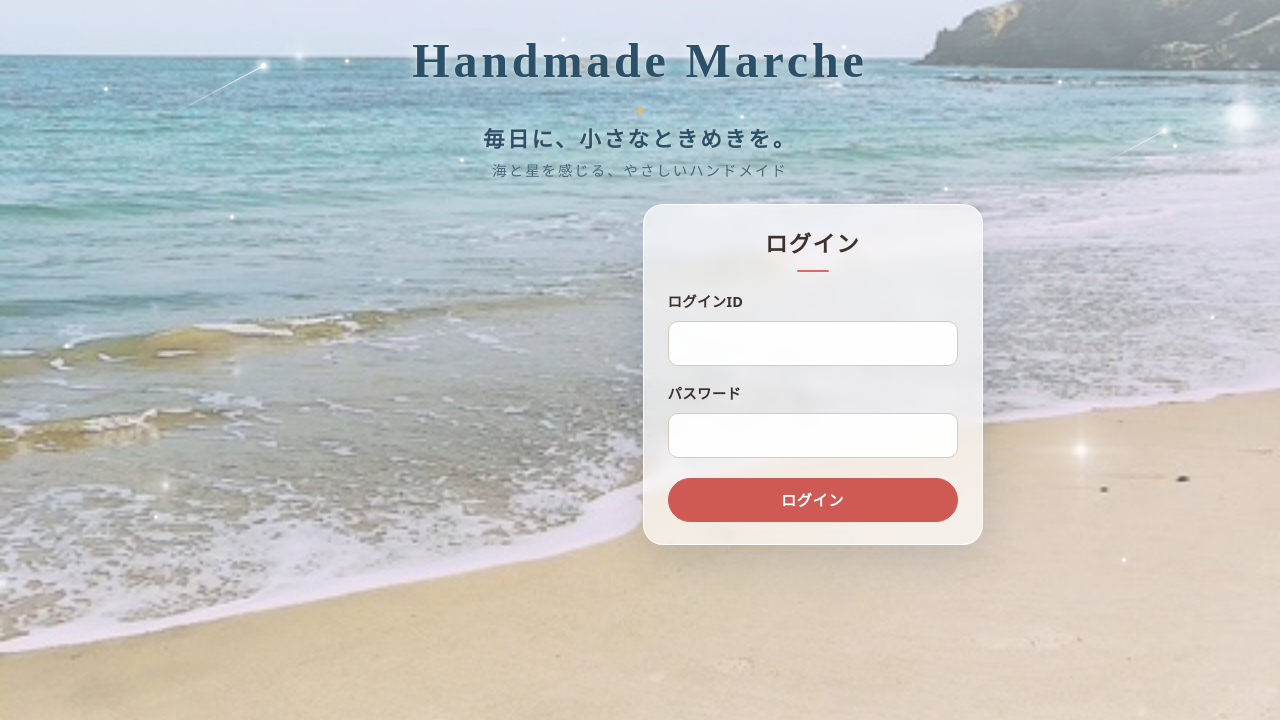
it: ログイン画面 › パスワードが違う場合はエラーを表示し、パスワード欄を空にしてログイン画面に留まる
The width and height of the screenshot is (1280, 720).
expect the heading "ログイン" is shown: met, box [765,232,860,257]
In the field labelled "ログインID": {"x": 813, "y": 344} [668,321,958,366], type "user1"
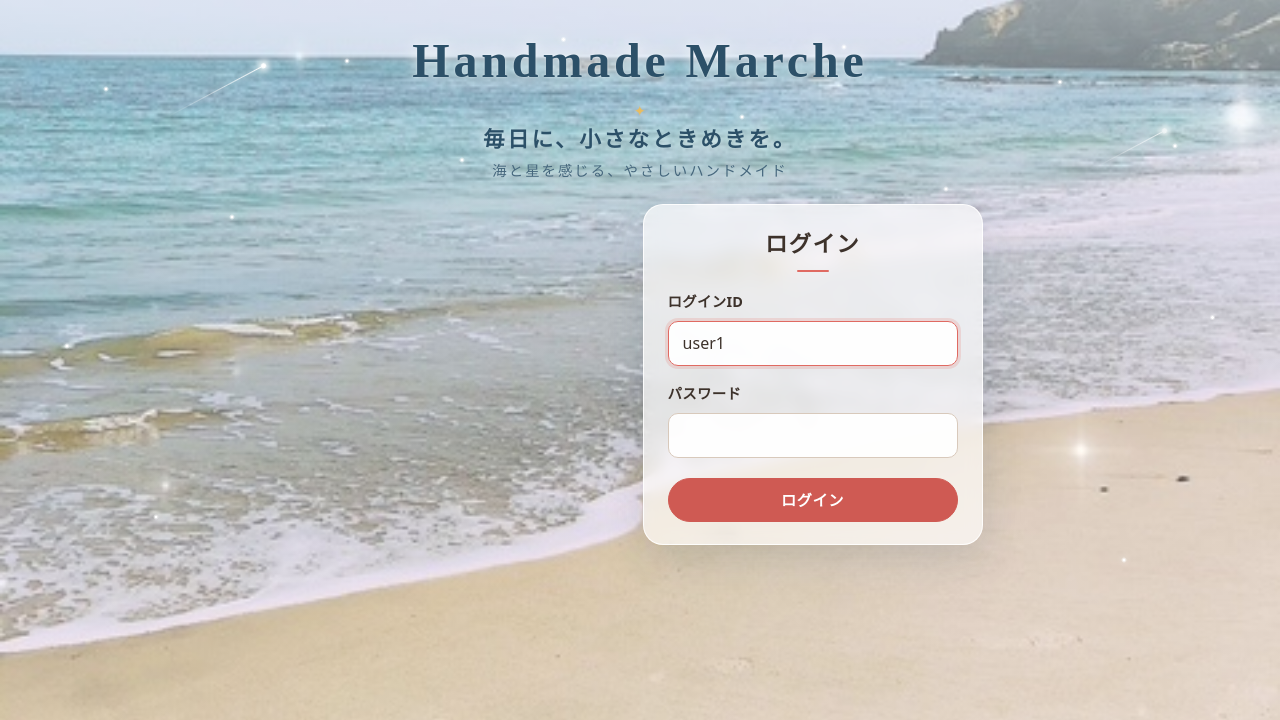
In the password field labelled "パスワード": {"x": 813, "y": 436} [668,413,958,458], type "wrong-password"
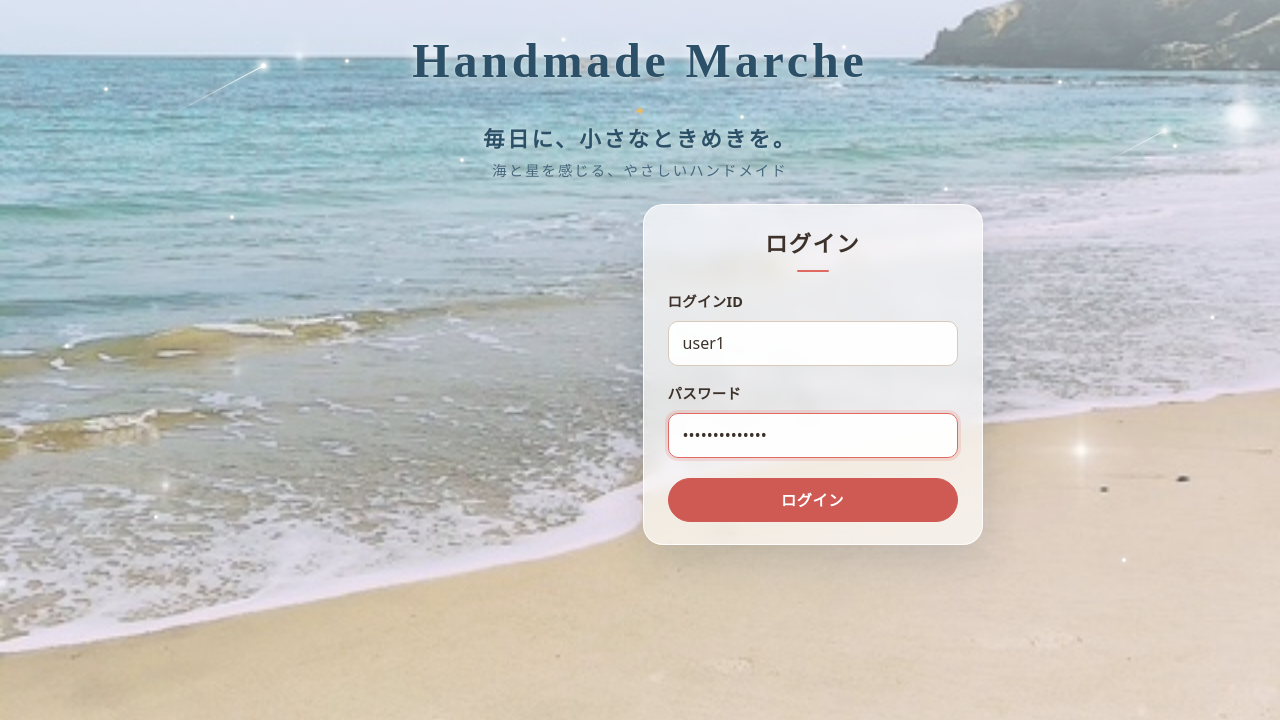
Click the button "ログイン": {"x": 813, "y": 500} [668,478,958,522]
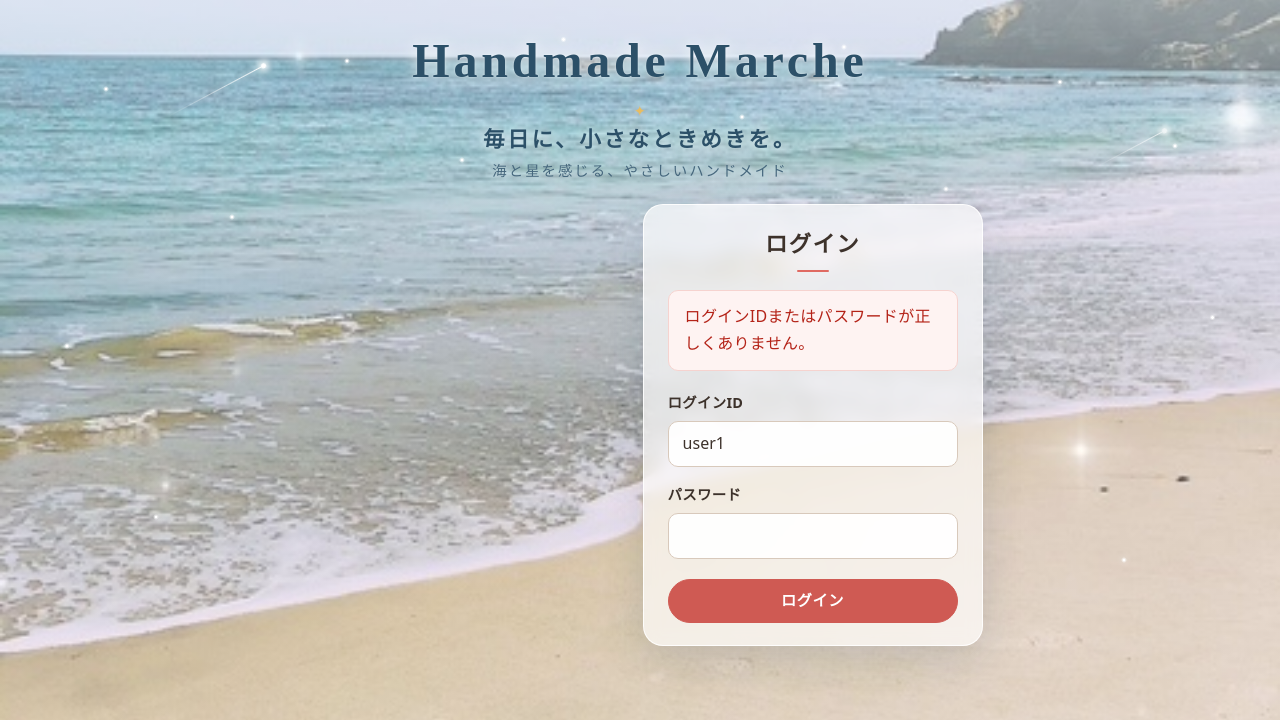
expect the heading "ログイン" is shown: met, box [765,232,860,257]
expect the text "ログインIDまたはパスワードが正しくありません。" is shown: met, box [668,290,958,371]
expect the password field labelled "パスワード" is empty: met, box [668,513,958,559]
